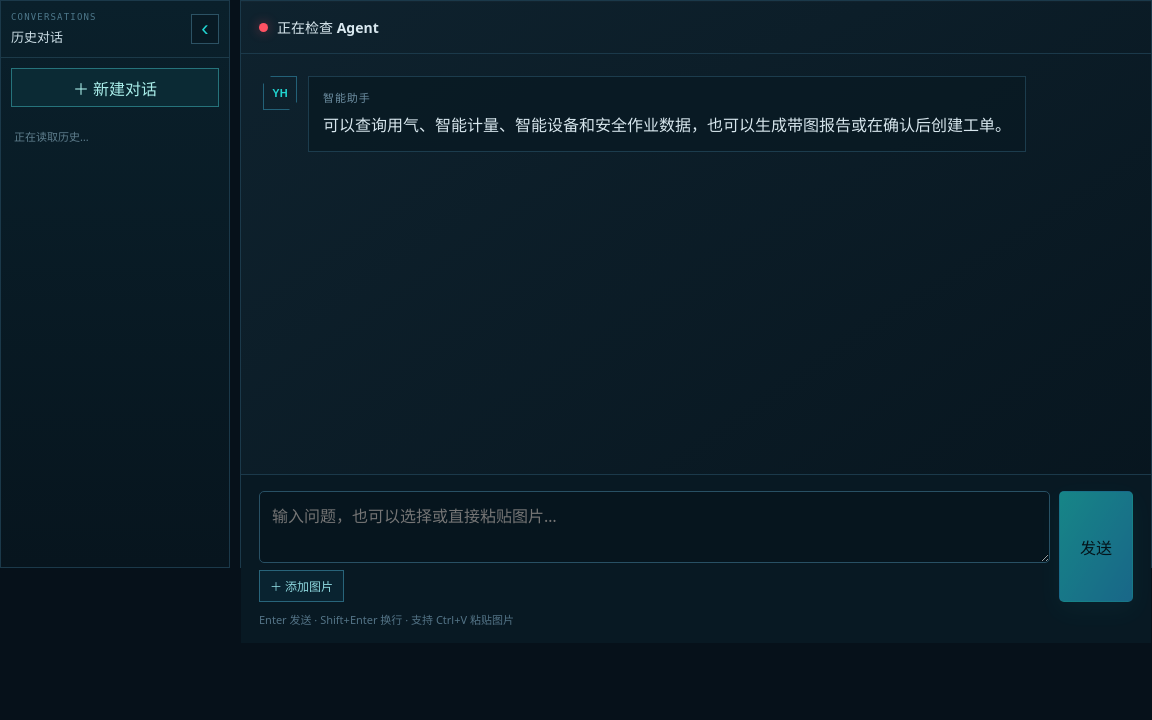
Test: 智能问答页面 › 工单批准前显示完整参数并显式确认
Type "创建工单" into the text box named "对话输入" at (654, 527), box x1=259 y1=491 x2=1050 y2=563
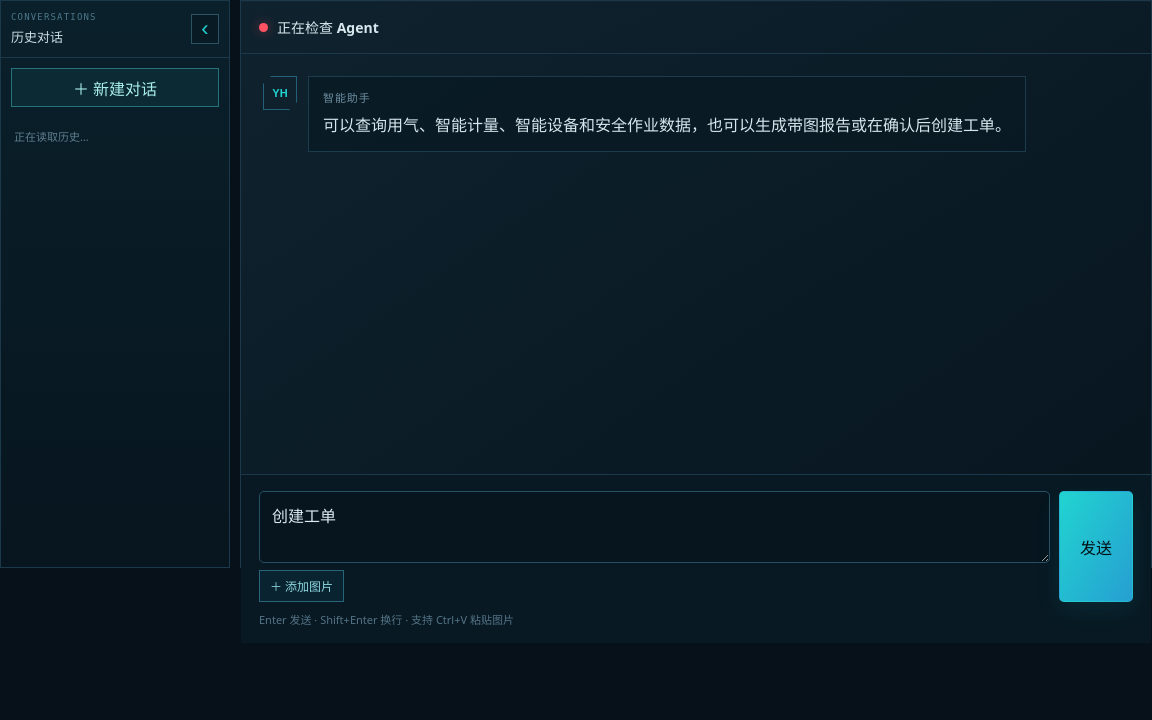
Click the button "发送" at (1096, 546), box x1=1059 y1=491 x2=1133 y2=602
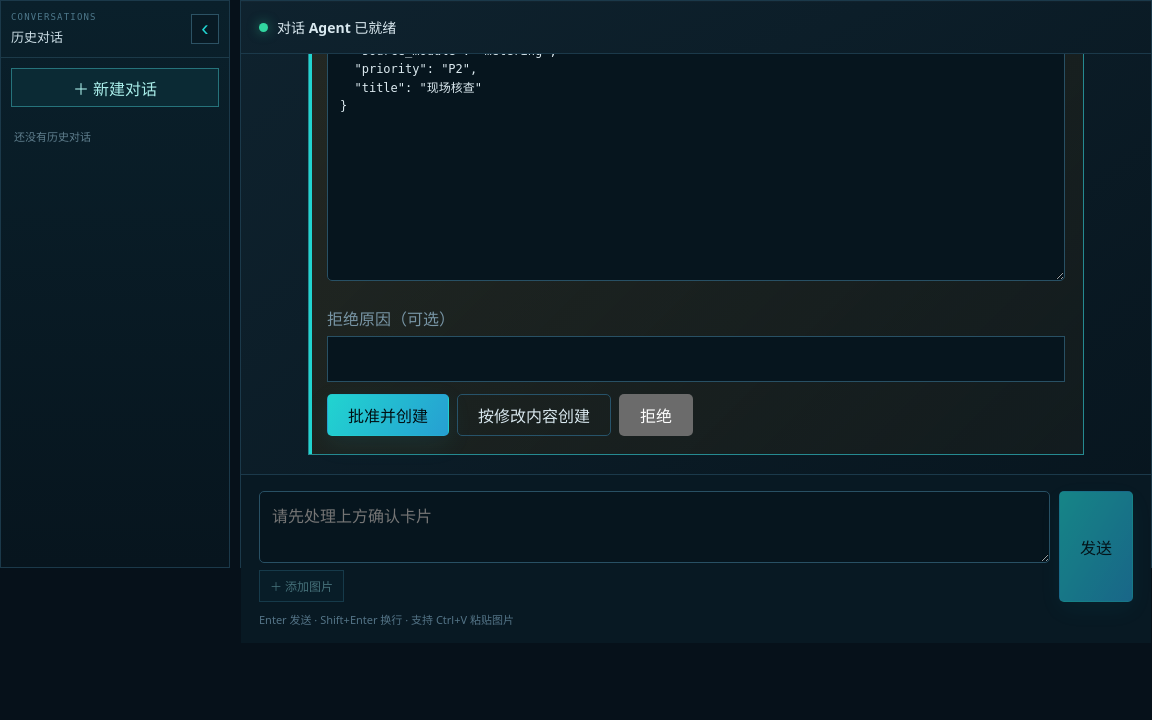
Click the button "批准并创建" at (388, 415), box x1=327 y1=394 x2=449 y2=436
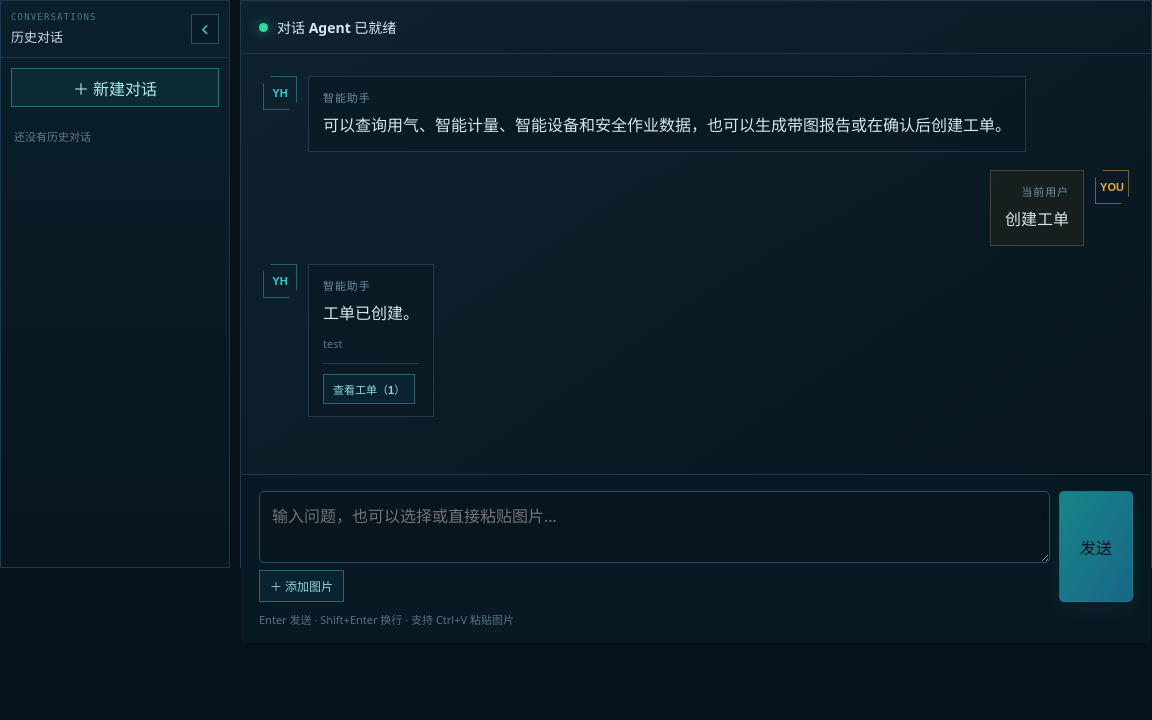
Expected: the element "数据与报告" is not shown
Now the text "工单已创建。" is shown, box x1=323 y1=299 x2=419 y2=327
Click the button "查看工单（1）" at (369, 389), box x1=323 y1=374 x2=415 y2=404
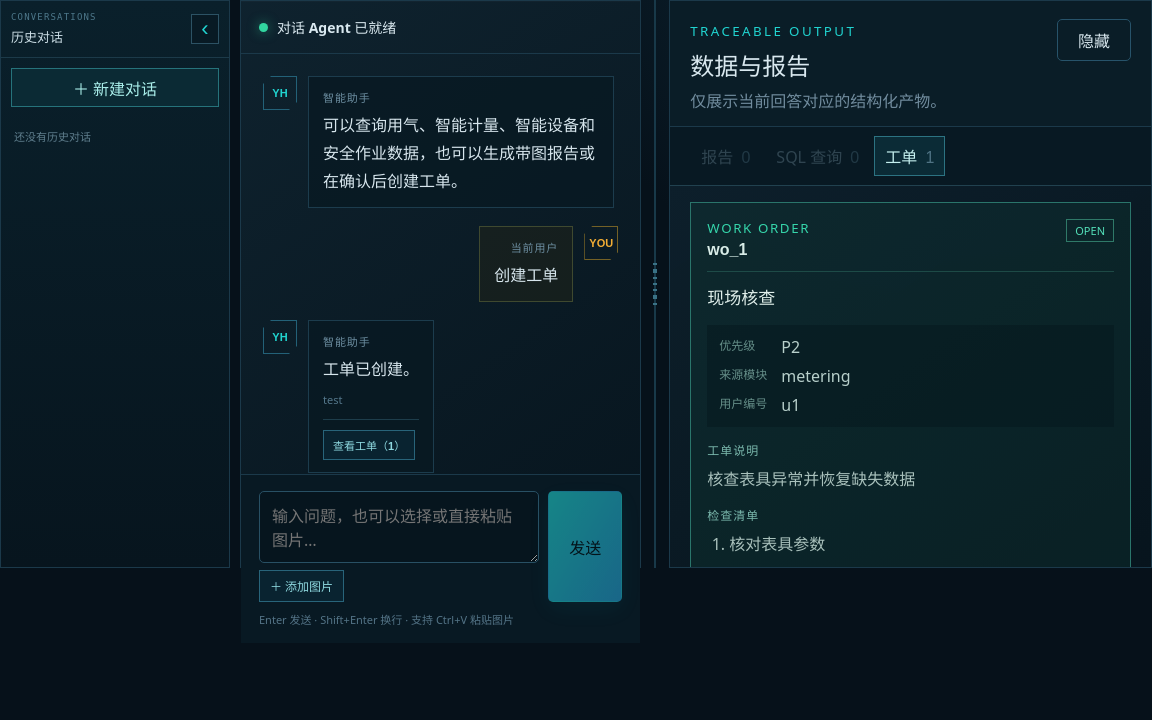
Now the text "wo_1" is shown, box x1=707 y1=241 x2=747 y2=258
Now the text "核查表具异常并恢复缺失数据" is shown, box x1=707 y1=468 x2=915 y2=490
Now the list item "核对表具参数" is shown, box x1=729 y1=533 x2=825 y2=555
